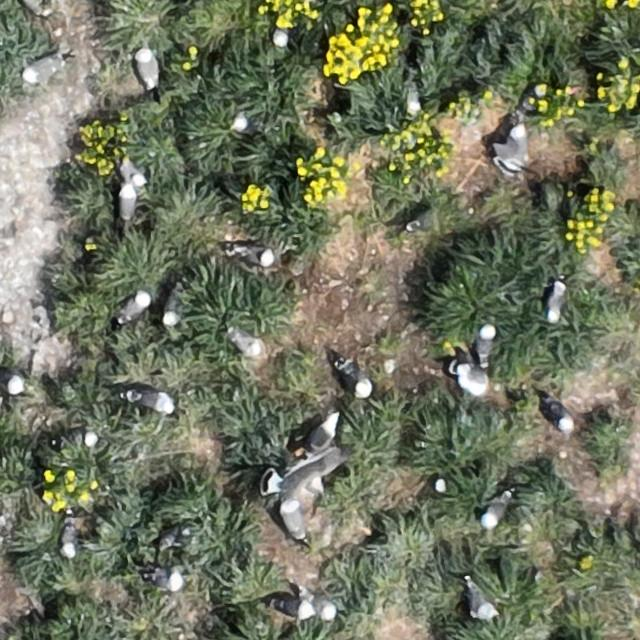F: (268, 460, 328, 504)
umineko: (455, 354, 489, 393), (120, 154, 154, 190), (54, 429, 102, 454), (340, 364, 371, 396), (126, 391, 172, 411), (232, 244, 273, 266), (119, 292, 149, 321), (307, 418, 334, 450), (135, 49, 157, 88), (26, 57, 60, 81), (284, 502, 306, 538), (230, 330, 260, 356), (508, 124, 527, 165), (272, 596, 310, 616), (547, 400, 572, 430), (482, 496, 506, 527), (546, 284, 564, 321), (150, 572, 184, 591), (469, 589, 491, 618), (164, 291, 183, 324), (61, 524, 78, 558), (2, 370, 26, 394), (476, 325, 493, 358), (120, 184, 136, 219), (234, 114, 258, 135), (19, 0, 47, 15)
